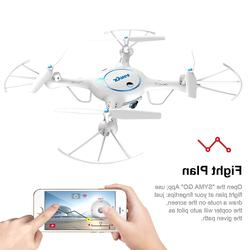drone: (3, 28, 244, 165)
